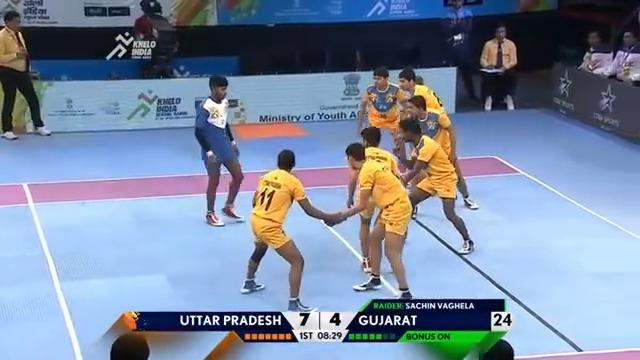Player: (239, 148, 344, 312), (323, 142, 414, 299), (397, 66, 479, 210), (395, 118, 475, 254), (0, 9, 51, 139), (356, 66, 409, 157)
Raider: (193, 74, 245, 226)
referee: (132, 0, 179, 78), (478, 22, 518, 110)
